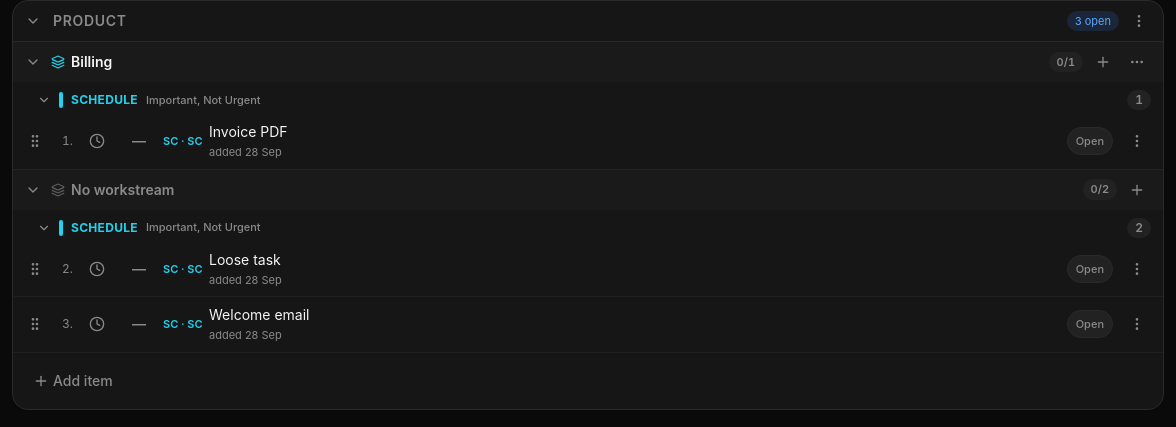
Test: SectionColumn workstreams › collapses a workstream from its header
What coordinates should you click on to do the following:
click the button named "Collapse Billing"
I would click on:
 (33, 62)
Its box is [21,48,45,76].
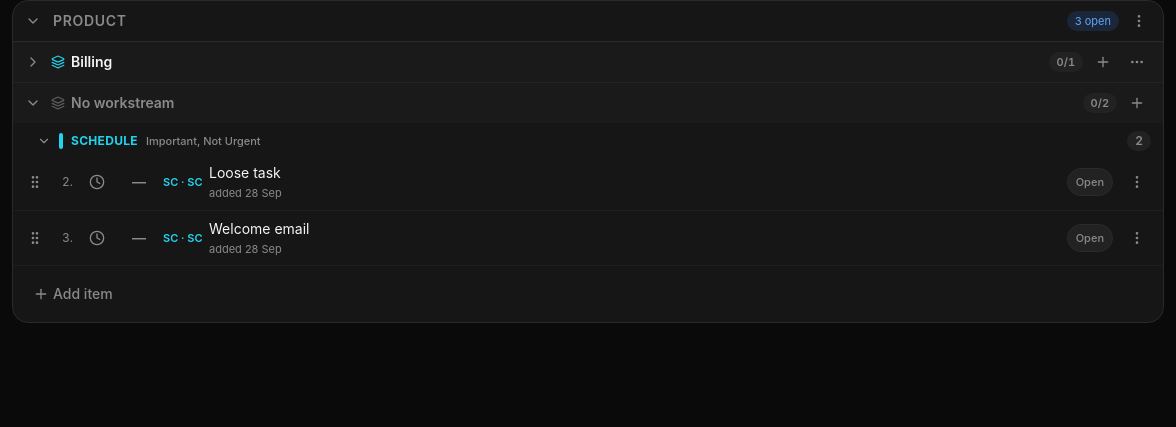
Expected: the button named "Expand Billing" is shown, [21,48,45,76]
